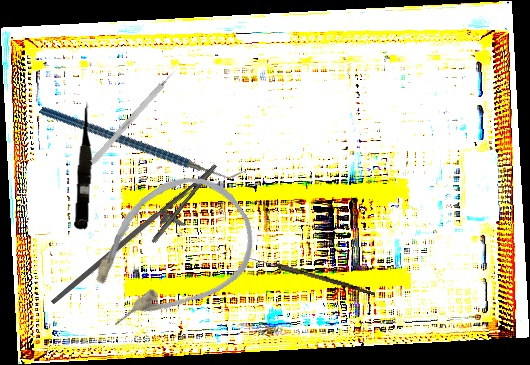Cannula: (64, 155, 274, 351)
Chopper: (38, 46, 247, 238)
Hook Surgical: (89, 65, 181, 165)
Micro Scissor: (74, 99, 97, 231)
Needle Holder: (50, 145, 230, 334)
Surgical Spoon: (242, 254, 377, 296)
